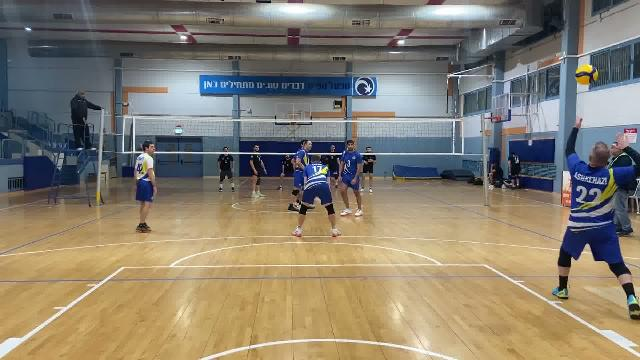ball: (573, 65, 600, 86)
